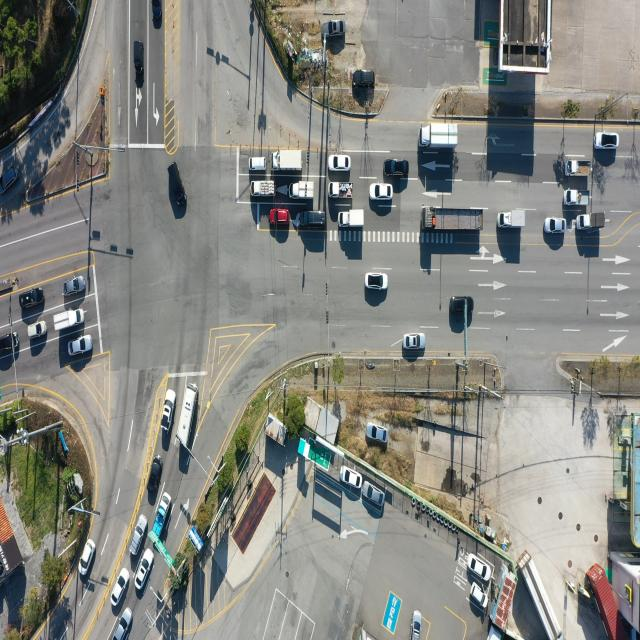car: (135, 548, 154, 589), (168, 164, 184, 212), (110, 568, 129, 607), (131, 513, 148, 555), (162, 389, 177, 435), (78, 539, 95, 577), (114, 608, 134, 640), (0, 165, 20, 196), (470, 555, 492, 582), (148, 458, 162, 498), (362, 483, 384, 508), (68, 337, 92, 358), (18, 288, 42, 309), (472, 580, 490, 608), (342, 466, 363, 488), (352, 68, 375, 87), (593, 133, 617, 151), (366, 423, 388, 442), (64, 277, 86, 296), (364, 274, 387, 292), (1, 333, 20, 354), (450, 297, 473, 314), (544, 216, 565, 234), (328, 156, 350, 173), (370, 183, 392, 200), (404, 335, 427, 351), (136, 40, 144, 83), (271, 208, 291, 225), (412, 610, 423, 640), (28, 321, 47, 338), (326, 20, 345, 37), (152, 0, 162, 29), (251, 155, 269, 171)
medium_truck: (523, 553, 564, 638), (425, 210, 486, 233), (420, 125, 458, 149), (272, 148, 302, 172)
small_bus: (174, 383, 197, 447)
small_truck: (152, 493, 172, 539), (54, 308, 85, 332), (576, 212, 606, 230), (498, 210, 526, 229), (565, 160, 593, 178), (338, 210, 364, 229), (564, 190, 590, 208), (327, 180, 353, 198), (291, 181, 315, 200), (250, 179, 275, 197)
